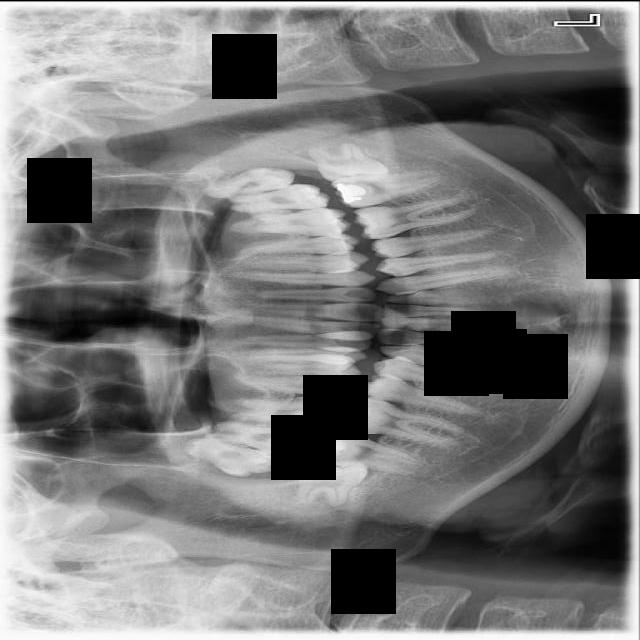3M ESPE Implant: (176, 426, 280, 487)
52: (311, 416, 372, 476), (328, 172, 383, 210)
73: (617, 10, 625, 16)
BioHorizons Implant: (220, 181, 332, 214)
BioLife Implant: (201, 160, 298, 200)
Biomet 3i Implant: (306, 137, 390, 187)
Blue Sky Bio Implant: (330, 166, 446, 210)
Caries: (196, 417, 315, 459)
Implant: (313, 426, 427, 476)
Keystone Dental Implant: (294, 457, 369, 507)
